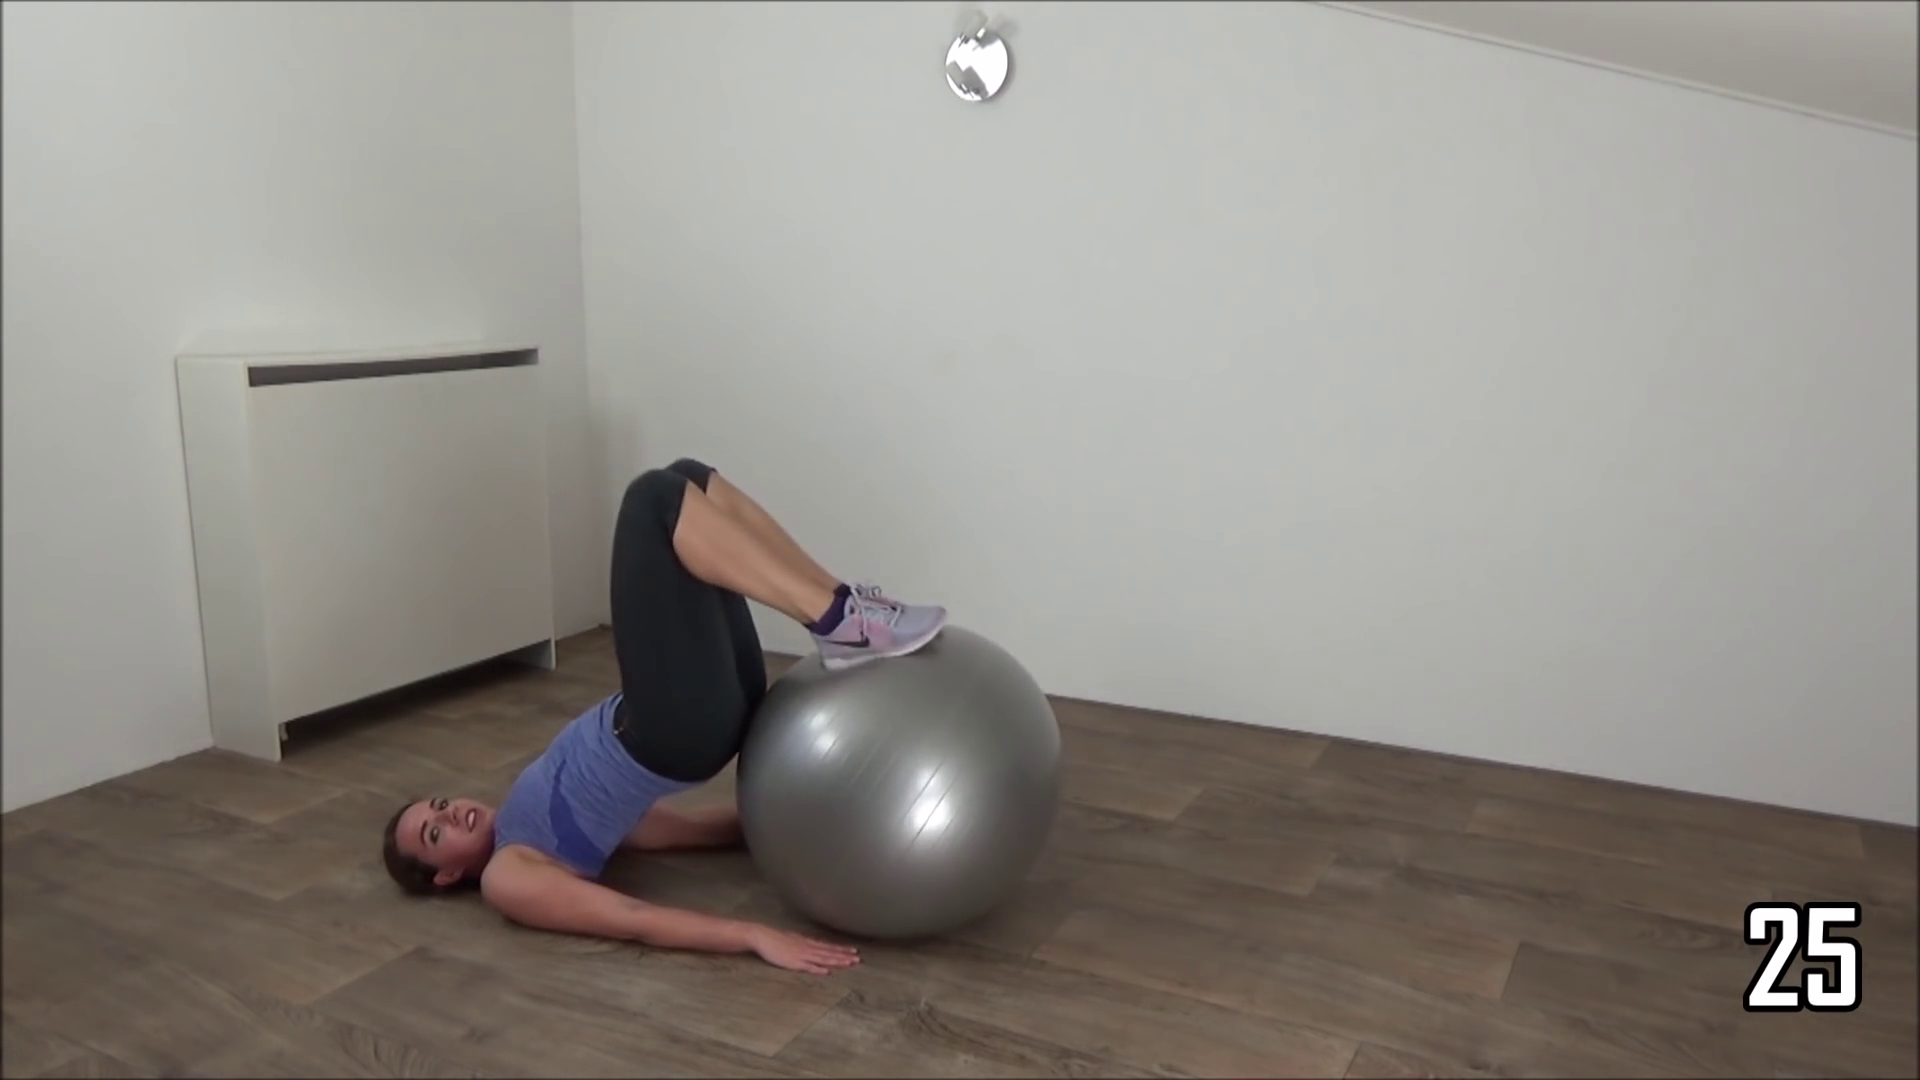yogaball: (719, 615, 1087, 953)
